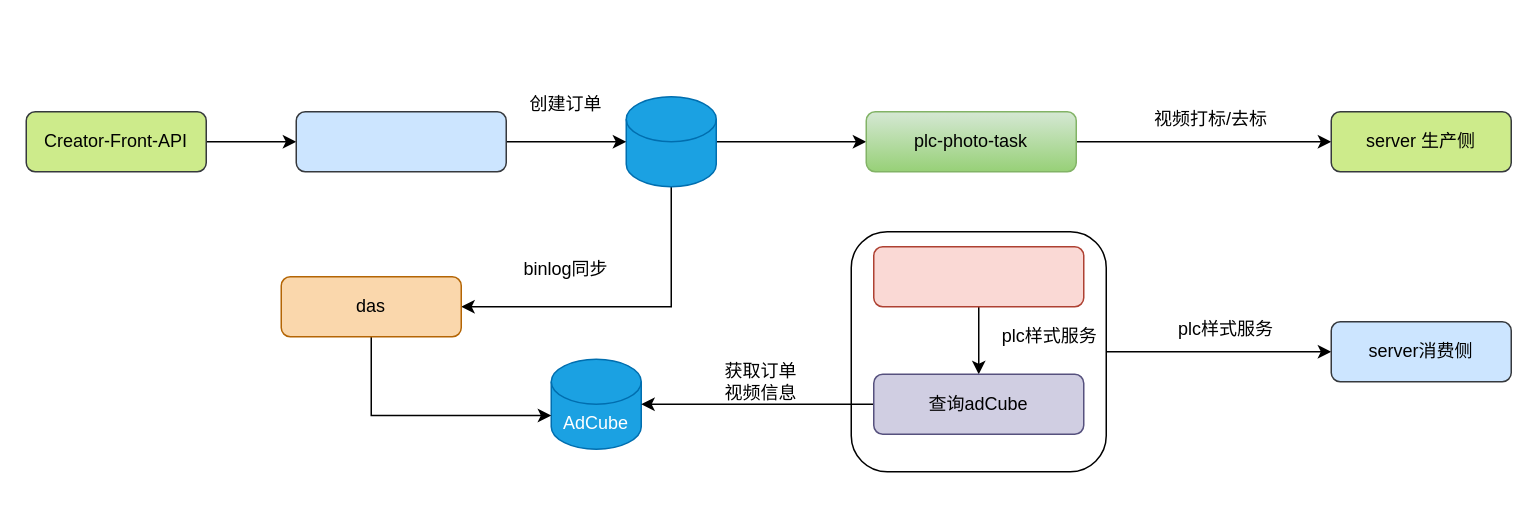
This 1538x510 diagram has some shape labels left out. The shapes that lost their labels are listed below. From the top down, each one's box as (x1, y1, x2, y2) in pixels, then its label:
(295, 110, 506, 172): creator-api
(625, 95, 716, 187): DB
(872, 245, 1084, 307): 查询loadCache
